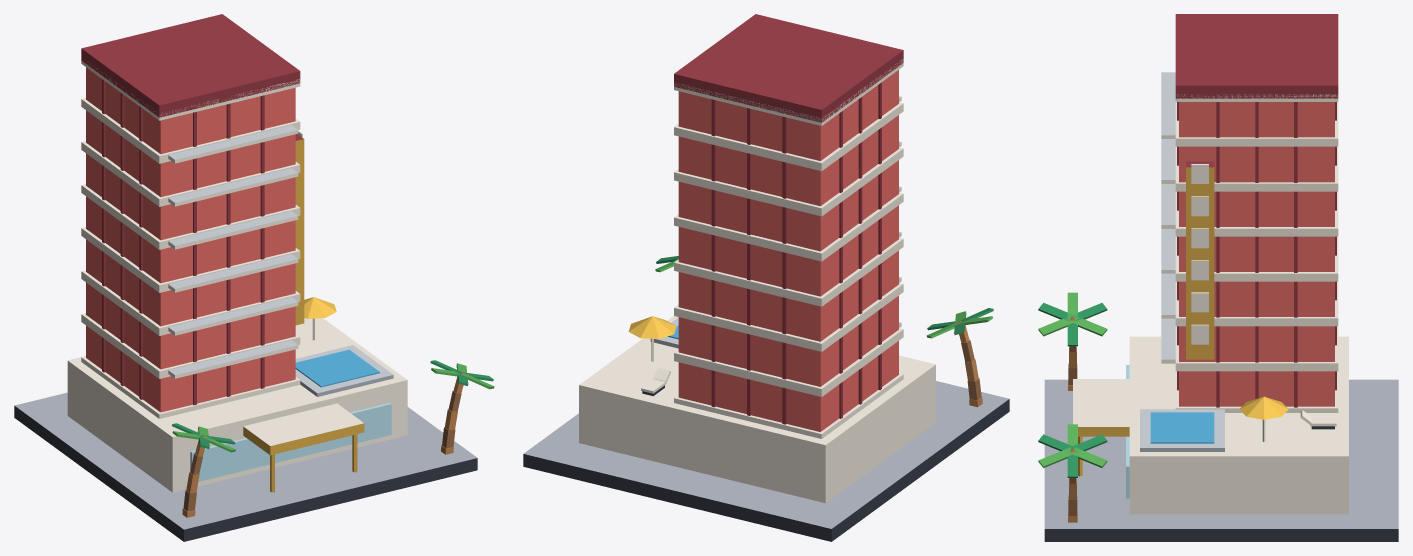
The model's file is shop_hotel.glb.
3 views of the same model, side by side, from view 1: azimuth 30°, elevation 25°; view 2: azimuth 150°, elevation 25°; view 3: azimuth 270°, elevation 25° (orthographic). The views are drawn at different scales.
Visible parts, largest first — view 1: shop_hotel; view 2: shop_hotel; view 3: shop_hotel.
Part boxes in pixels (box(x1,y1,x2,y2)): shop_hotel: box(14, 14, 494, 541); shop_hotel: box(523, 14, 1009, 541); shop_hotel: box(1038, 14, 1398, 541).
Bounding box in the file's own units: 1.09 × 1.24 × 1.02.
